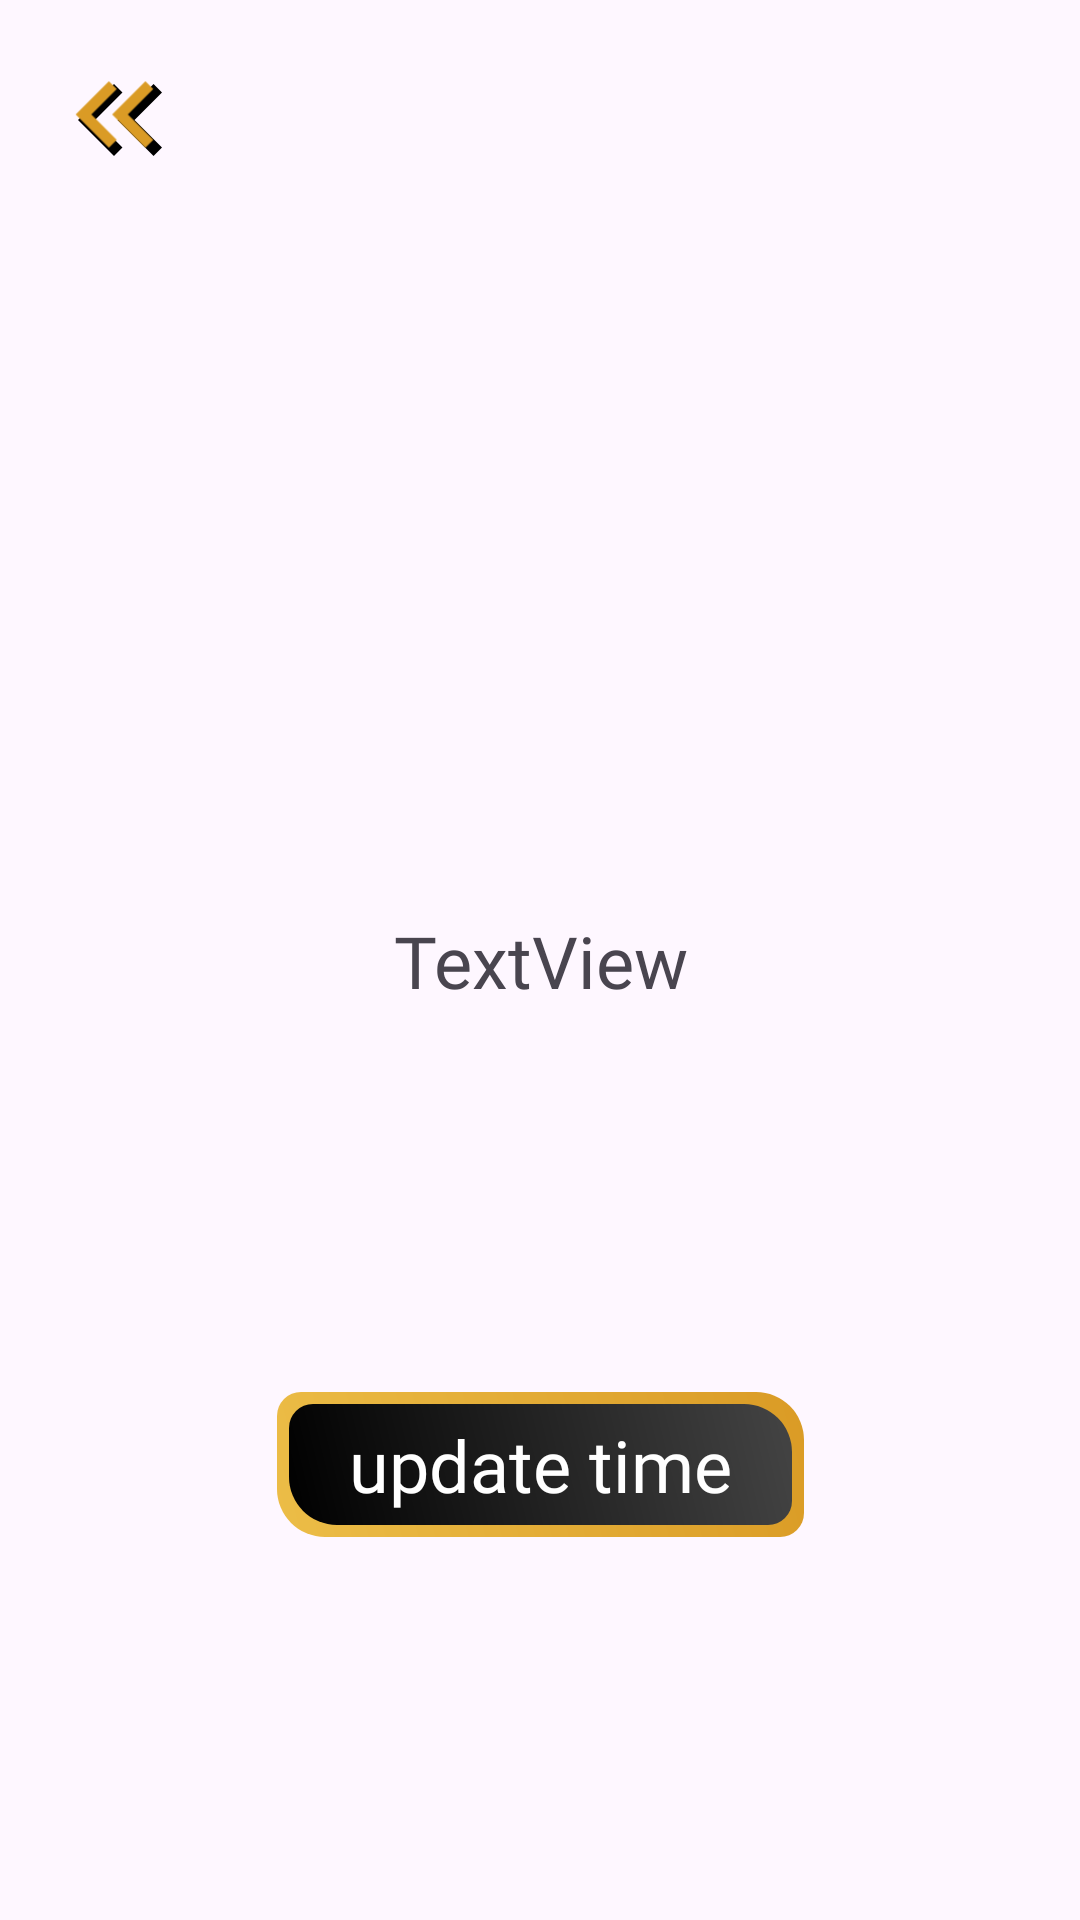

Icon bounding boxes for this 1080 x 1920 phone screenshot, format (left=x1, top=y1, right=x2, bottom=y2):
chevron left: (left=76, top=81, right=162, bottom=156)
